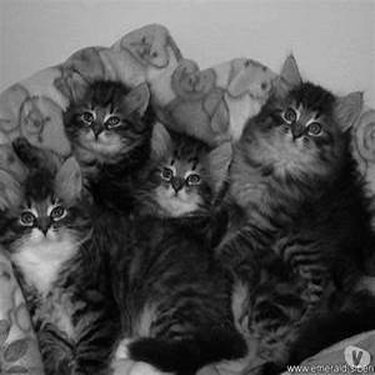cat: (214, 48, 363, 365), (116, 123, 233, 364), (1, 154, 130, 370), (9, 69, 152, 210)
